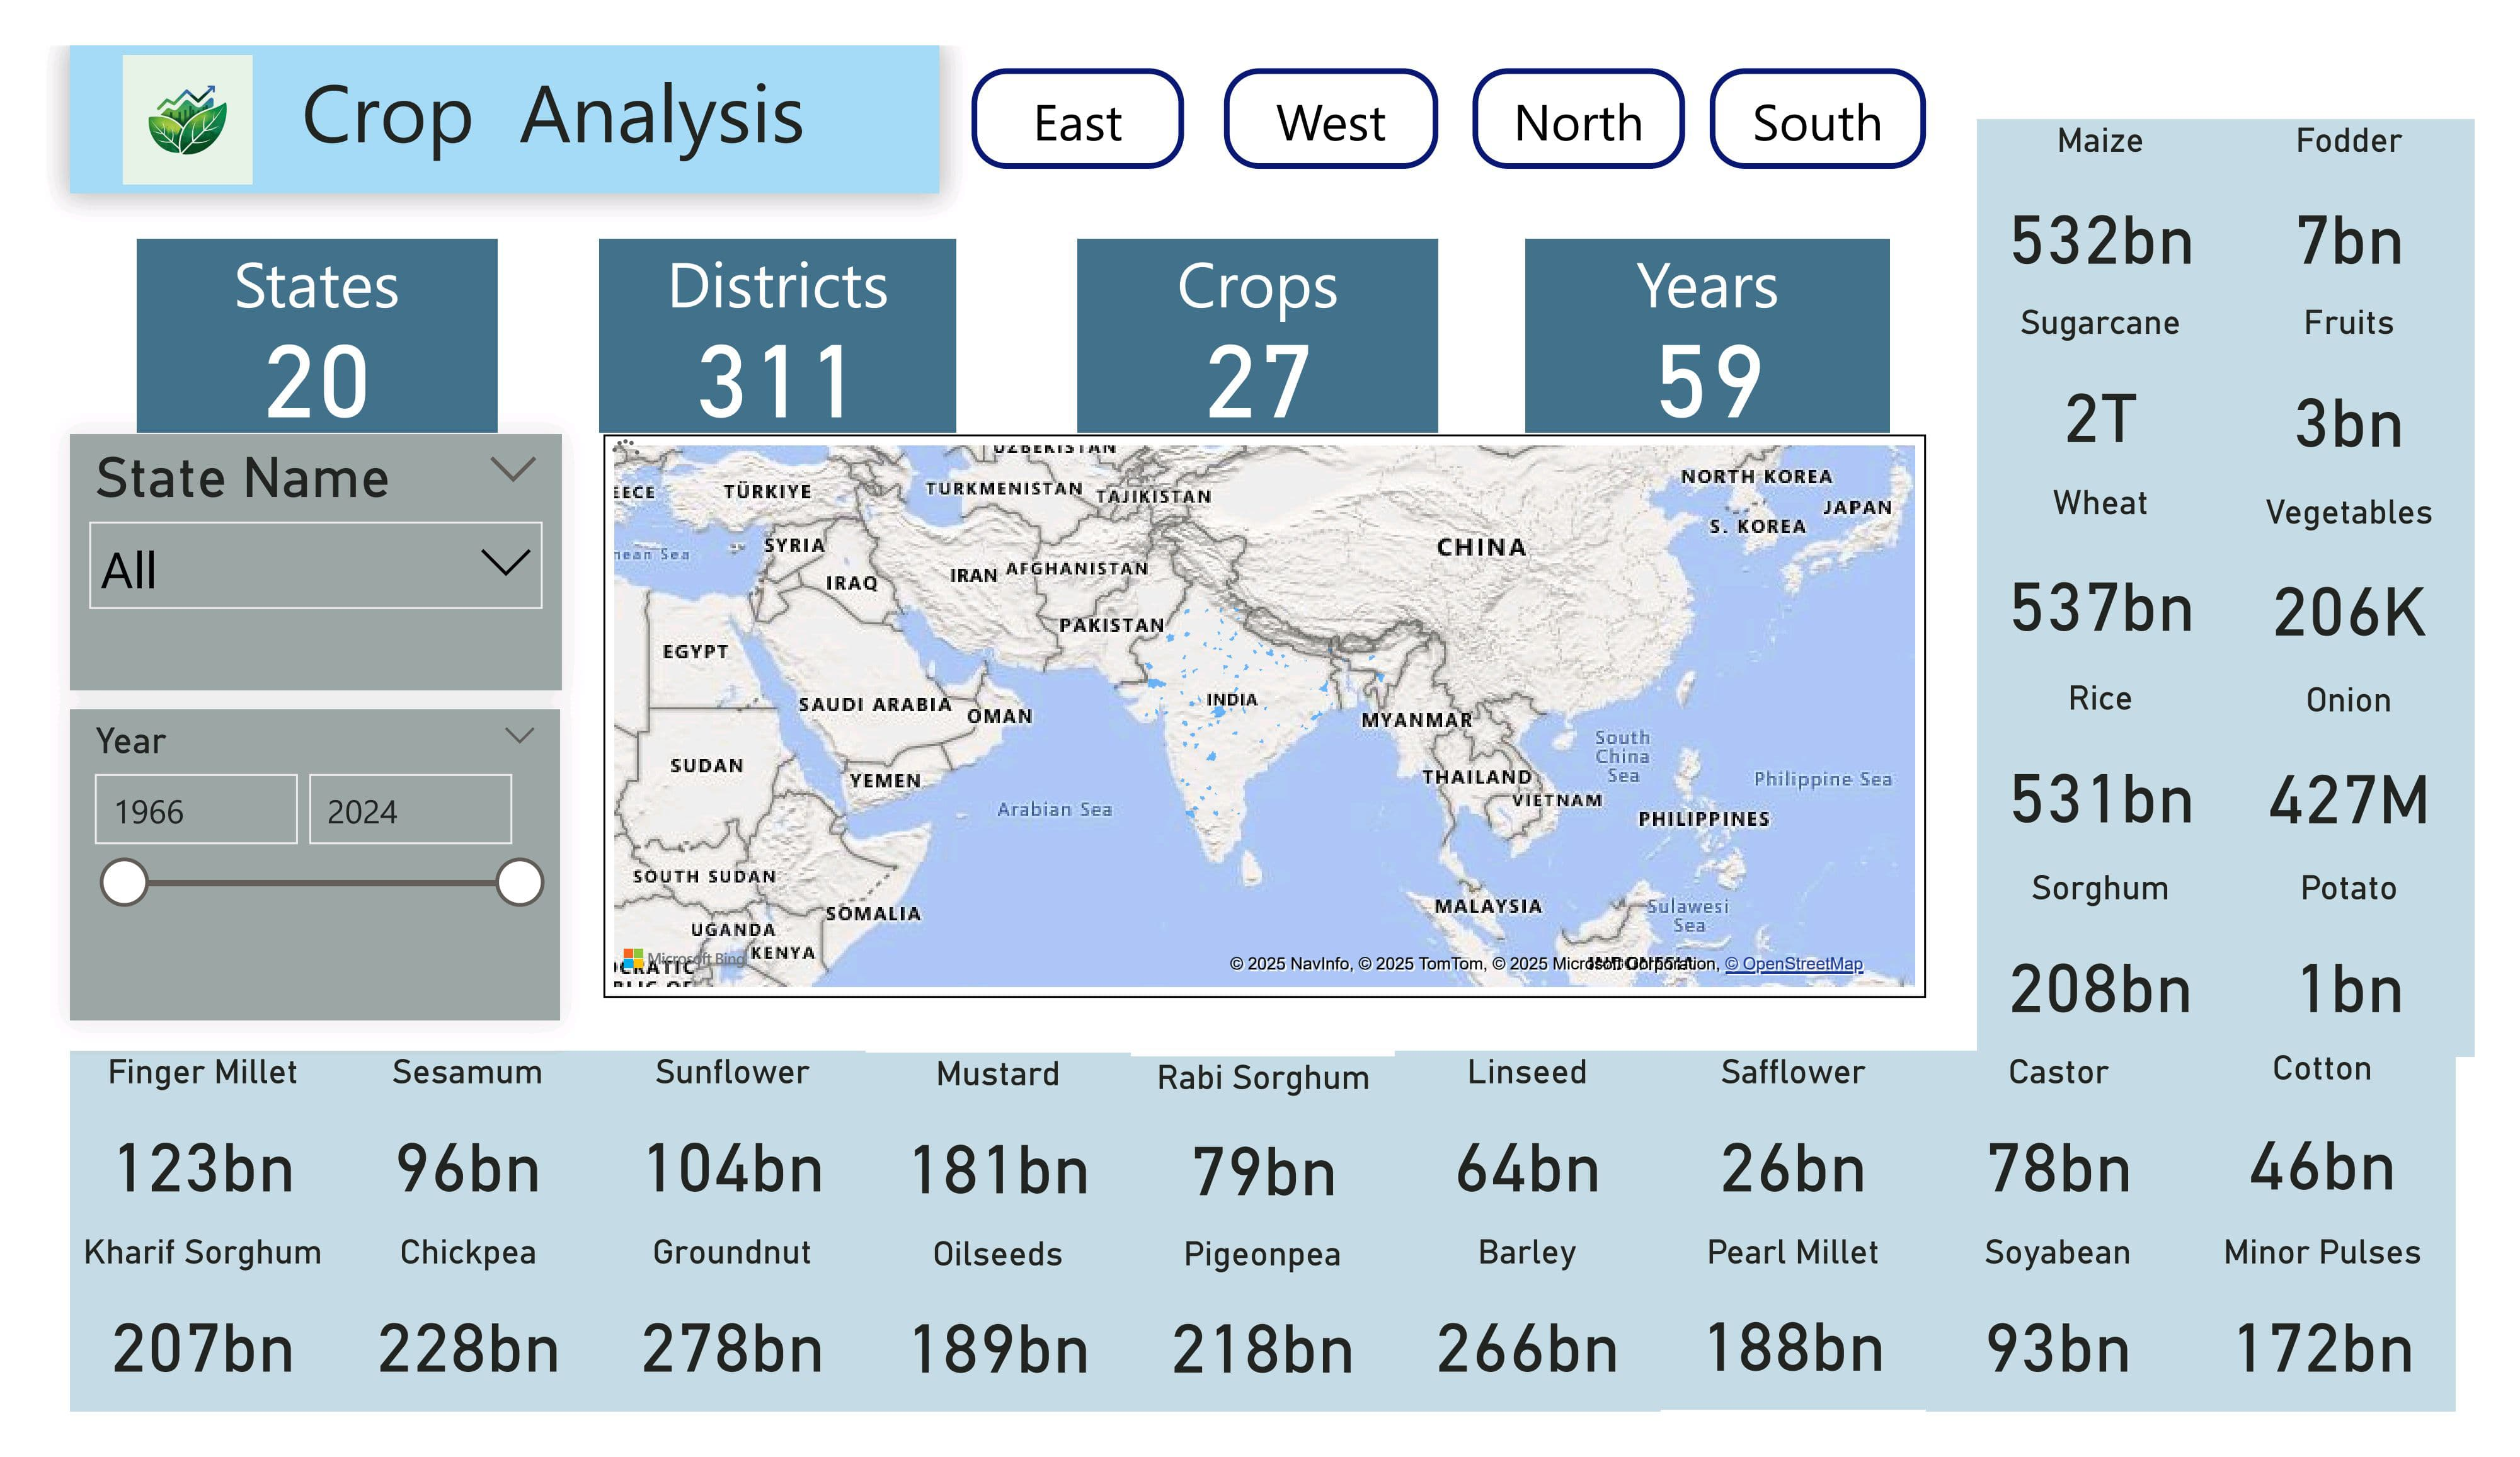

The dashboard page shown, as its layout file describes it:
{"tool":"powerbi","page":{"name":"Page 1","canvas":[1280,720],"ordinal":0},"visuals":[{"type":"slicer","fields":{"Values":["ICRISAT-District-Level-Data-Updated-2024.State Name"]},"box":[13.3,205,258.3,135],"z":0},{"type":"card","title":"Wheat","fields":{"Values":["Sum(ICRISAT-District-Level-Data-Updated-2024.Wheat)"]},"box":[1018.1,230.4,129.6,103.7],"z":1000},{"type":"card","title":"Sugarcane","fields":{"Values":["Sum(ICRISAT-District-Level-Data-Updated-2024.Sugarcane)"]},"box":[1018.1,135.4,129.6,95],"z":2000},{"type":"card","title":"Maize","fields":{"Values":["Sum(ICRISAT-District-Level-Data-Updated-2024.Maize)"]},"box":[1018.1,38.9,129.6,99.4],"z":3000},{"type":"card","title":"Rice","fields":{"Values":["Sum(ICRISAT-District-Level-Data-Updated-2024.Rice)"]},"box":[1018.1,332.6,129.6,100.8],"z":4000},{"type":"card","title":"Sorghum","fields":{"Values":["Sum(ICRISAT-District-Level-Data-Updated-2024.Sorghum)"]},"box":[1018.1,433.4,129.6,99.4],"z":5000},{"type":"card","title":"Kharif Sorghum","fields":{"Values":["Sum(ICRISAT-District-Level-Data-Updated-2024.kharif Sorghum)"]},"box":[13,625,140,95],"z":6000},{"type":"card","title":"Groundnut","fields":{"Values":["Sum(ICRISAT-District-Level-Data-Updated-2024.Groundnut)"]},"box":[292.3,625,139.7,95],"z":7000},{"type":"card","title":"Chickpea","fields":{"Values":["Sum(ICRISAT-District-Level-Data-Updated-2024.Chickpea)"]},"box":[152.6,625,140,95],"z":8000},{"type":"card","title":"Oilseeds","fields":{"Values":["Sum(ICRISAT-District-Level-Data-Updated-2024.OilSeeds)"]},"box":[432,626.4,139.7,93.6],"z":9000},{"type":"card","title":"Pigeonpea","fields":{"Values":["Sum(ICRISAT-District-Level-Data-Updated-2024.Pigeonpea)"]},"box":[571.7,626.4,139.7,93.6],"z":10000},{"type":"card","title":"Barley","fields":{"Values":["Sum(ICRISAT-District-Level-Data-Updated-2024.Barley)"]},"box":[711.4,625,139.7,95],"z":11000},{"type":"card","title":"Pearl Millet","fields":{"Values":["Sum(ICRISAT-District-Level-Data-Updated-2024.Pearl Millet)"]},"box":[851,625,139.7,93.6],"z":12000},{"type":"card","title":"Soyabean","fields":{"Values":["Sum(ICRISAT-District-Level-Data-Updated-2024.Soyabean)"]},"box":[990.7,625,139.7,95],"z":13000},{"type":"card","title":"Minor Pulses","fields":{"Values":["Sum(ICRISAT-District-Level-Data-Updated-2024.Minor Pulses)"]},"box":[1130.4,625,140,95],"z":14000},{"type":"card","title":"Mustard","fields":{"Values":["Sum(ICRISAT-District-Level-Data-Updated-2024.Mustard)"]},"box":[432,531.4,140,95],"z":15000},{"type":"card","title":"Rabi Sorghum","fields":{"Values":["Sum(ICRISAT-District-Level-Data-Updated-2024.Rabi Sorghum)"]},"box":[571.7,532.8,140,93.6],"z":16000},{"type":"card","title":"Finger Millet","fields":{"Values":["Sum(ICRISAT-District-Level-Data-Updated-2024.Finger Millet)"]},"box":[13,529.9,140,95],"z":17000},{"type":"card","title":"Linseed","fields":{"Values":["Sum(ICRISAT-District-Level-Data-Updated-2024.Linseed)"]},"box":[711.4,529.9,140,95],"z":18000},{"type":"card","title":"Sesamum","fields":{"Values":["Sum(ICRISAT-District-Level-Data-Updated-2024.Sesamum)"]},"box":[152.6,529.9,139.7,95],"z":19000},{"type":"card","title":"Sunflower","fields":{"Values":["Sum(ICRISAT-District-Level-Data-Updated-2024.Sunflower)"]},"box":[292.3,529.9,140,95],"z":20000},{"type":"card","title":"Castor","fields":{"Values":["Sum(ICRISAT-District-Level-Data-Updated-2024.Castor)"]},"box":[990.7,529.9,140,95],"z":21000},{"type":"card","title":"Safflower","fields":{"Values":["Sum(ICRISAT-District-Level-Data-Updated-2024.Safflower)"]},"box":[851,529.9,140,95],"z":22000},{"type":"card","title":"Fodder","fields":{"Values":["Sum(ICRISAT-District-Level-Data-Updated-2024.Fodder)"]},"box":[1147.7,38.9,132.5,99.4],"z":23000},{"type":"card","title":"Fruits","fields":{"Values":["Sum(ICRISAT-District-Level-Data-Updated-2024.Fruits)"]},"box":[1147.7,135.4,132.5,99.4],"z":24000},{"type":"card","title":"Vegetables","fields":{"Values":["ICRISAT-District-Level-Data-Updated-2024.Vegetables"]},"box":[1147.7,234.7,132.5,99.4],"z":25000},{"type":"card","title":"Onion","fields":{"Values":["Sum(ICRISAT-District-Level-Data-Updated-2024.Onion)"]},"box":[1147.7,334.1,132.5,99.4],"z":26000},{"type":"card","title":"Potato","fields":{"Values":["Sum(ICRISAT-District-Level-Data-Updated-2024.Potatoes)"]},"box":[1147.7,433.4,132.5,99.4],"z":27000},{"type":"textbox","box":[13,0,457.9,77.8],"z":28000},{"type":"card","title":"Cotton","fields":{"Values":["Sum(ICRISAT-District-Level-Data-Updated-2024.Cotton)"]},"box":[1130.4,528.5,140,96.5],"z":29000},{"type":"card","title":"Districts","fields":{"Values":["Count(ICRISAT-District-Level-Data-Updated-2024.Dist Name)"]},"box":[292.3,102.2,187.2,102.2],"z":30000},{"type":"card","title":"Crops","fields":{"Values":["Avg(ICRISAT-District-Level-Data-Updated-2024.Crops)"]},"box":[544.3,102.2,190.1,102.2],"z":31000},{"type":"card","title":"Years","fields":{"Values":["Count(ICRISAT-District-Level-Data-Updated-2024.Year)"]},"box":[780.5,102.2,191.5,102.2],"z":32000},{"type":"filledMap","fields":{"Category":["ICRISAT-District-Level-Data-Updated-2024.Dist Name"]},"box":[293.6,205.2,697.6,296.7],"z":33000},{"type":"slicer","fields":{"Values":["ICRISAT-District-Level-Data-Updated-2024.Year"]},"box":[13,349.9,257.8,164.2],"z":34000},{"type":"card","title":"States","fields":{"Values":["Count(ICRISAT-District-Level-Data-Updated-2024.State Name)"]},"box":[47.5,102.2,190.1,102.2],"z":35000},{"type":"actionButton","box":[488.2,11.5,112.3,53.3],"z":36000},{"type":"actionButton","title":"West","box":[620.6,11.5,113.8,53.3],"z":37000},{"type":"actionButton","box":[751.7,11.5,112.3,53.3],"z":38000},{"type":"actionButton","box":[877,11.5,113.8,53.3],"z":39000},{"type":"image","box":[36,0,77.8,77.8],"z":39001}]}

Visuals, with their boxes in screenshot pixels (x1, y1, x2, y2), scaled from the page's 1280x720 canvas onto the 2520x1457 screenshot:
slicer - ICRISAT-District-Level-Data-Updated-2024.State Name: locate(26, 415, 535, 688)
"Wheat" card: locate(2005, 466, 2260, 676)
"Sugarcane" card: locate(2005, 274, 2260, 466)
"Maize" card: locate(2005, 79, 2260, 280)
"Rice" card: locate(2005, 673, 2260, 877)
"Sorghum" card: locate(2005, 877, 2260, 1078)
"Kharif Sorghum" card: locate(26, 1265, 301, 1456)
"Groundnut" card: locate(575, 1265, 850, 1456)
"Chickpea" card: locate(301, 1265, 576, 1456)
"Oilseeds" card: locate(850, 1267, 1126, 1456)
"Pigeonpea" card: locate(1126, 1267, 1400, 1456)
"Barley" card: locate(1400, 1265, 1676, 1456)
"Pearl Millet" card: locate(1675, 1265, 1950, 1454)
"Soyabean" card: locate(1950, 1265, 2226, 1456)
"Minor Pulses" card: locate(2226, 1265, 2501, 1456)
"Mustard" card: locate(850, 1075, 1126, 1267)
"Rabi Sorghum" card: locate(1126, 1078, 1401, 1267)
"Finger Millet" card: locate(26, 1072, 301, 1264)
"Linseed" card: locate(1400, 1072, 1676, 1264)
"Sesamum" card: locate(301, 1072, 575, 1264)
"Sunflower" card: locate(575, 1072, 851, 1264)
"Castor" card: locate(1950, 1072, 2226, 1264)
"Safflower" card: locate(1675, 1072, 1951, 1264)
"Fodder" card: locate(2260, 79, 2519, 280)
"Fruits" card: locate(2260, 274, 2519, 475)
"Vegetables" card: locate(2260, 475, 2519, 676)
"Onion" card: locate(2260, 676, 2519, 877)
"Potato" card: locate(2260, 877, 2519, 1078)
textbox: locate(26, 0, 927, 157)
"Cotton" card: locate(2226, 1070, 2501, 1265)
"Districts" card: locate(575, 207, 944, 414)
"Crops" card: locate(1072, 207, 1446, 414)
"Years" card: locate(1537, 207, 1914, 414)
filledMap - ICRISAT-District-Level-Data-Updated-2024.Dist Name: locate(578, 415, 1952, 1015)
slicer - ICRISAT-District-Level-Data-Updated-2024.Year: locate(26, 708, 533, 1041)
"States" card: locate(93, 207, 467, 414)
actionButton: locate(961, 23, 1183, 131)
"West" actionButton: locate(1222, 23, 1446, 131)
actionButton: locate(1480, 23, 1701, 131)
actionButton: locate(1727, 23, 1950, 131)
image: locate(71, 0, 224, 157)
